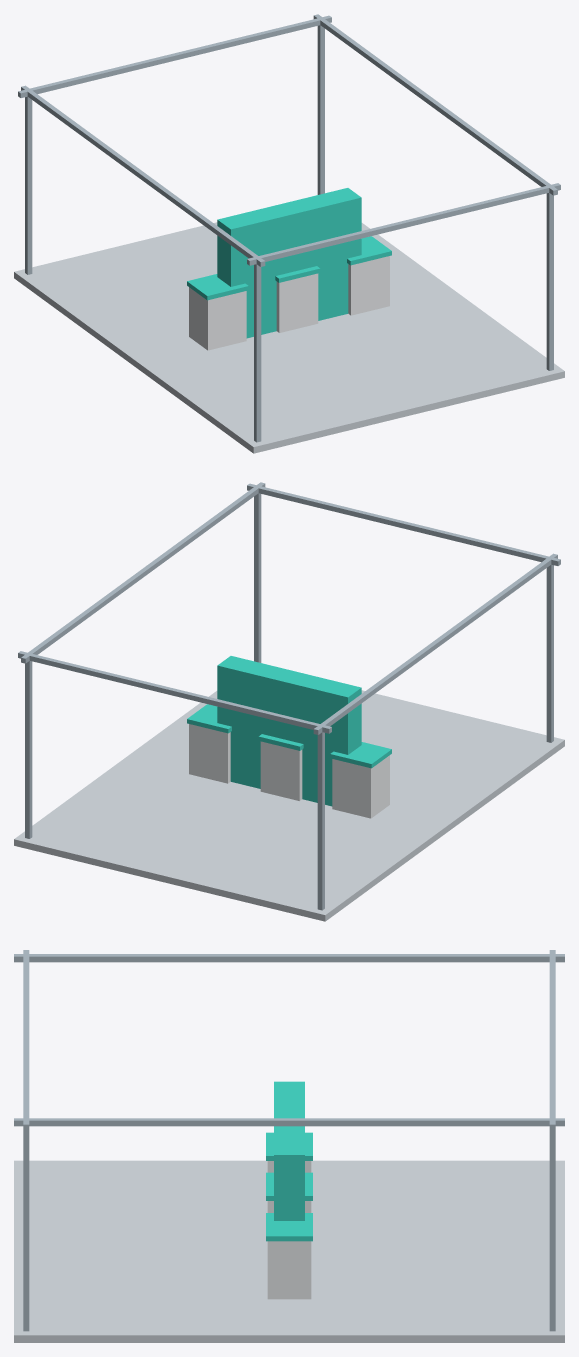
The picture shows the model from 3 angles, top to bottom: view 1: azimuth 30°, elevation 25°; view 2: azimuth 150°, elevation 25°; view 3: azimuth 270°, elevation 25°; orthographic projection. The views are drawn at different scales.
Visible parts, largest first — view 1: Exhibition Booth Concept; view 2: Exhibition Booth Concept; view 3: Exhibition Booth Concept.
Boxes of the visible parts, bbox=[...] form: Exhibition Booth Concept: bbox=[14, 14, 564, 453]; Exhibition Booth Concept: bbox=[14, 482, 564, 921]; Exhibition Booth Concept: bbox=[14, 950, 564, 1342].
Size of the model in its own units: 6 by 3.49 by 8.
